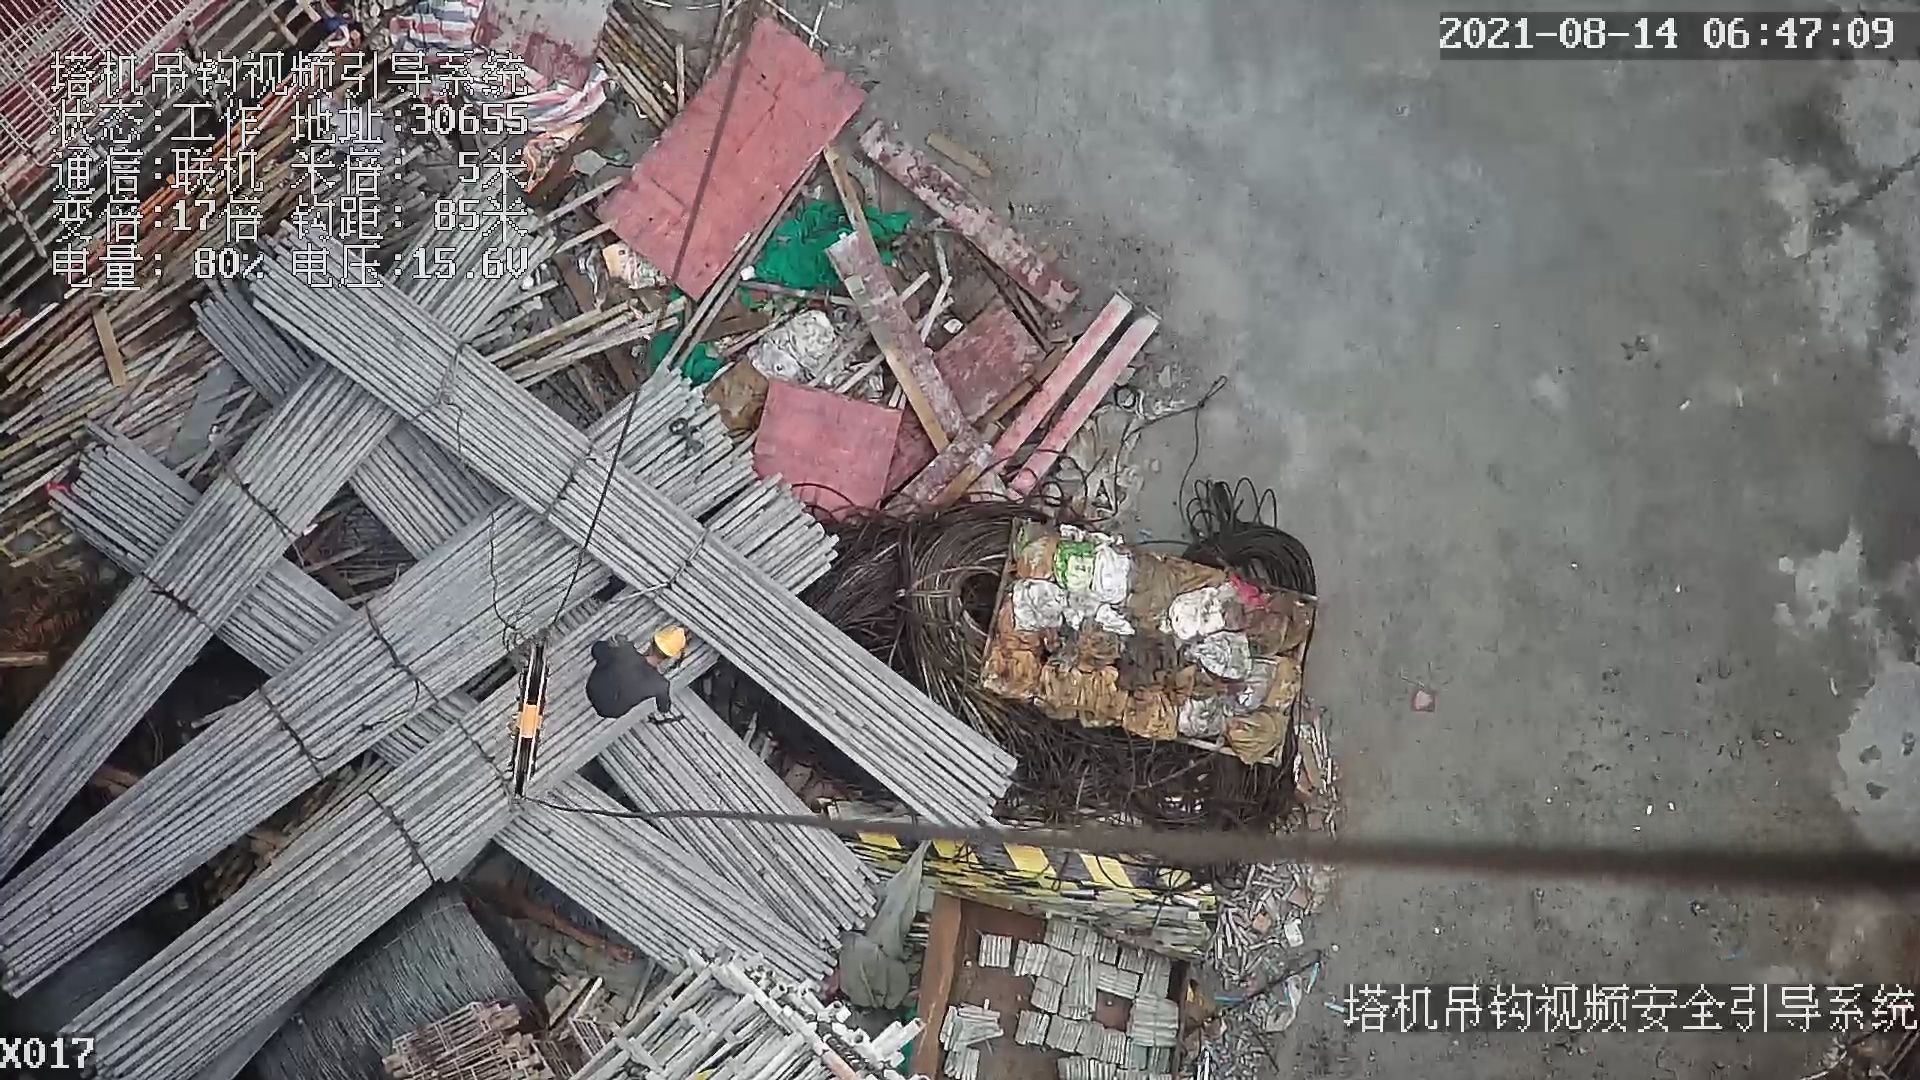board: (586, 6, 878, 311)
helmet: (655, 620, 686, 660)
hook: (503, 637, 553, 815)
person: (585, 612, 691, 731)
